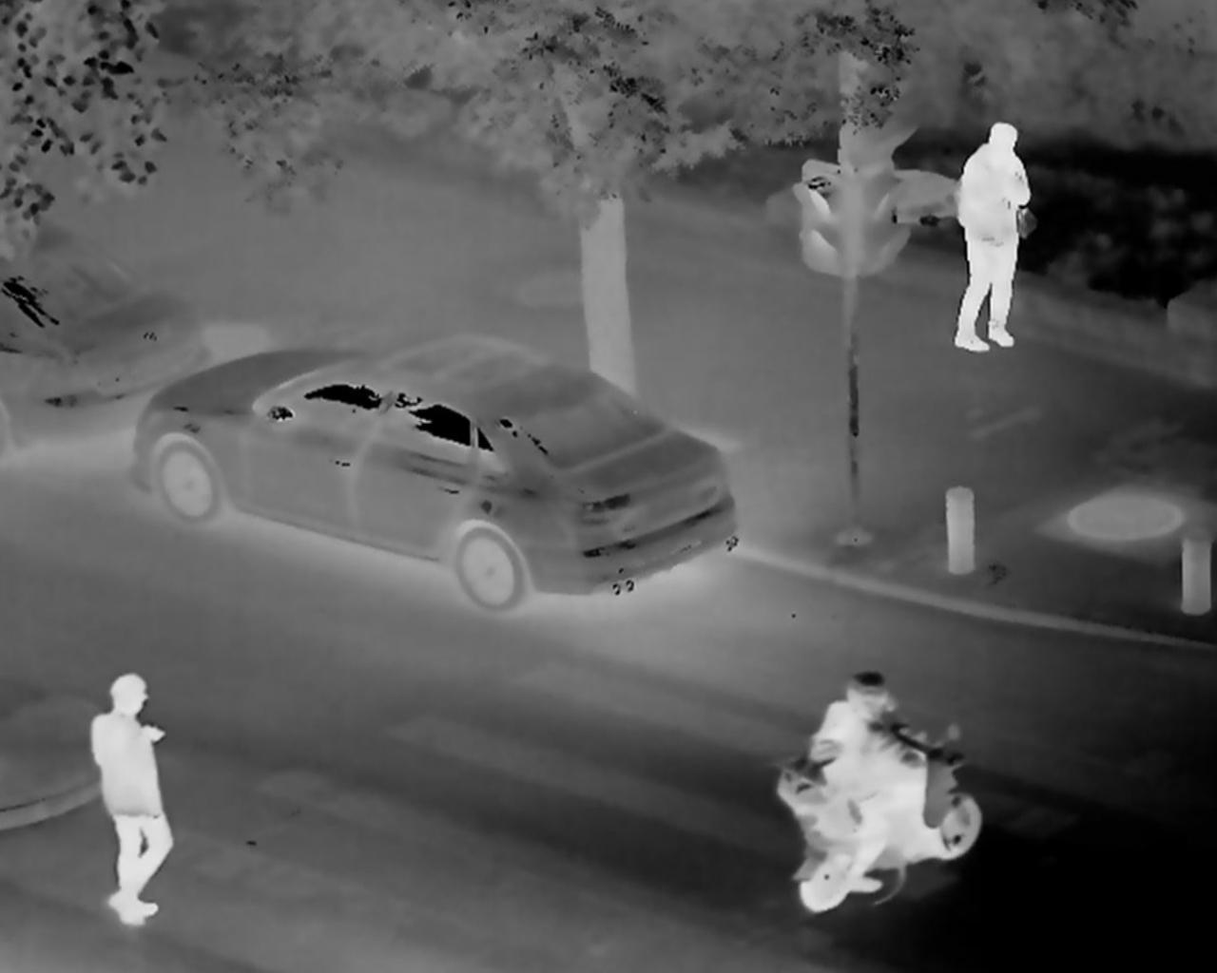person: (767, 667, 958, 871), (79, 659, 201, 932), (947, 111, 1040, 364)
